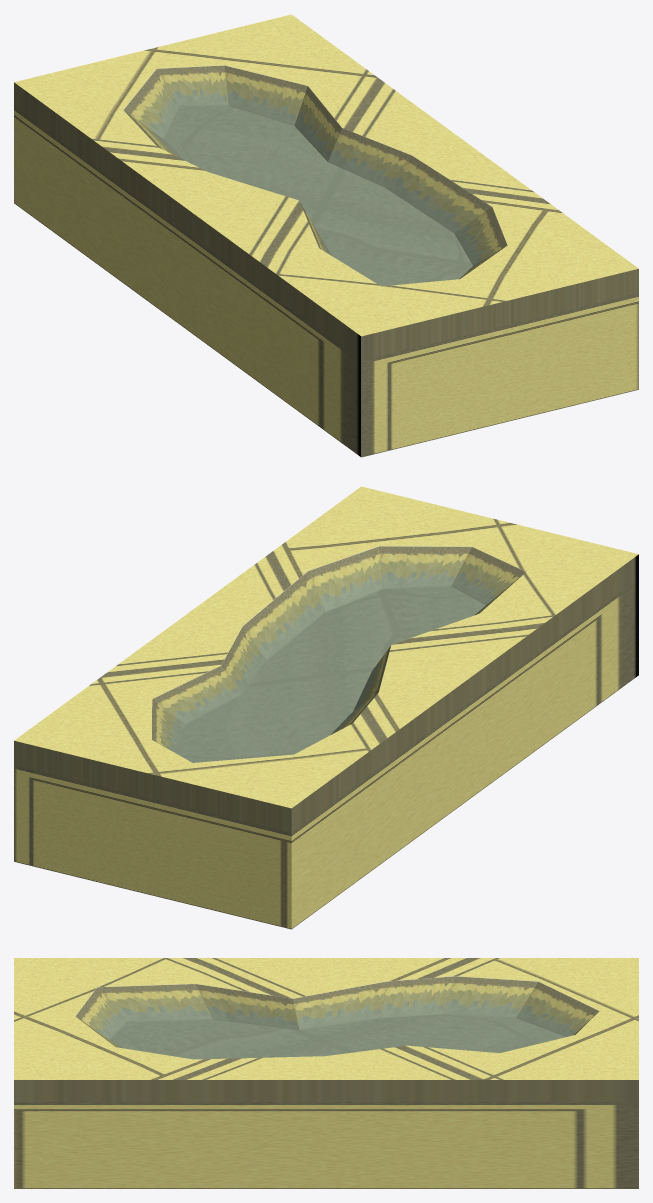
The model's file is Pond_0.fbx.
The picture shows the model from 3 angles, top to bottom: view 1: azimuth 30°, elevation 25°; view 2: azimuth 150°, elevation 25°; view 3: azimuth 270°, elevation 25°; orthographic projection. The views are drawn at different scales.
Visible parts, largest first — view 1: Pond_0; view 2: Pond_0; view 3: Pond_0.
Part boxes in pixels (box(x1,y1,x2,y2)): Pond_0: box(14, 14, 638, 457); Pond_0: box(14, 486, 638, 929); Pond_0: box(14, 958, 638, 1188).
Bounding box in the file's own units: 600 × 250 × 1300.
Materials: 1 (1 with a texture image).
